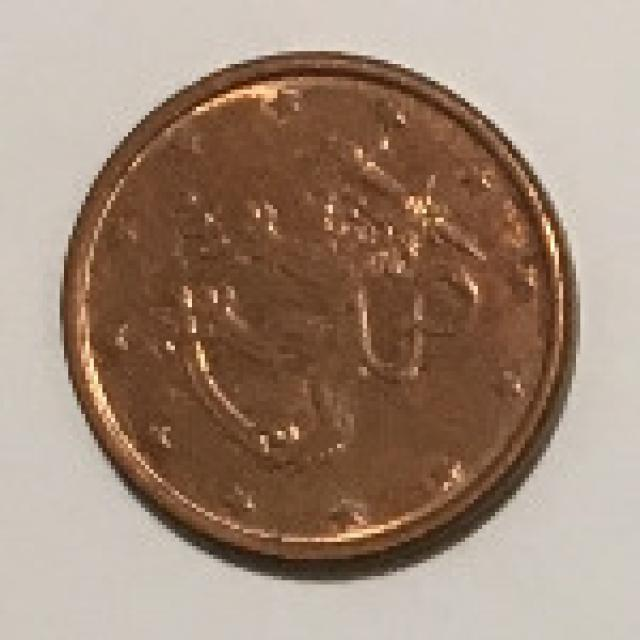5c: (34, 42, 589, 584)
